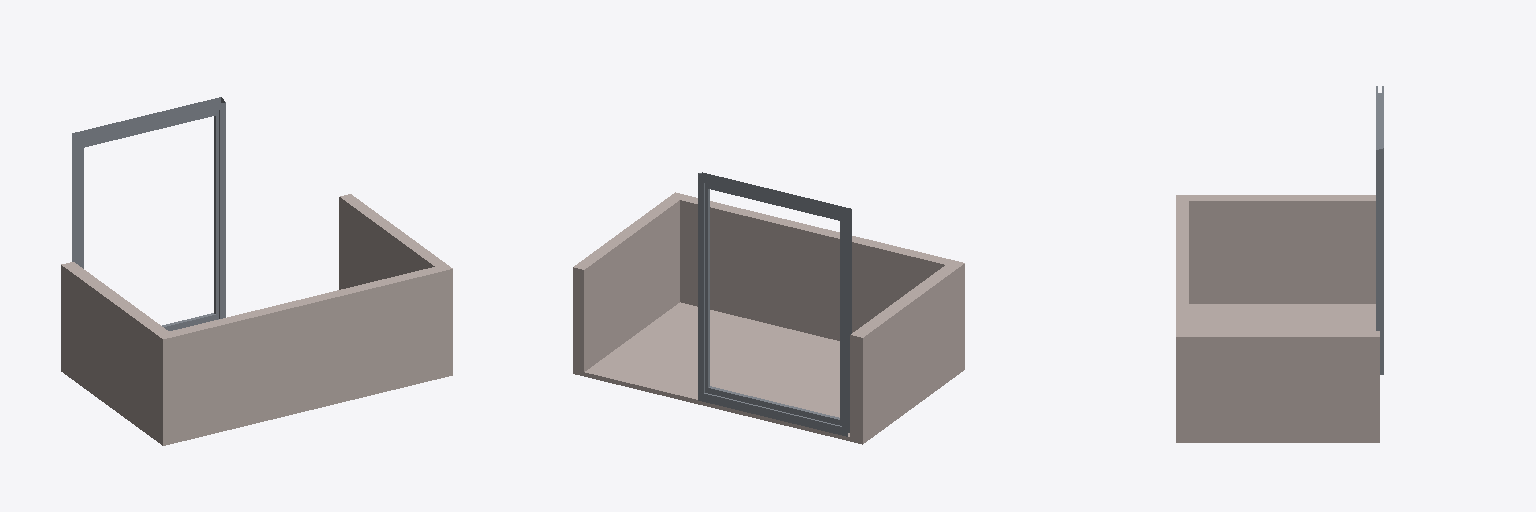
3 renders of one model, left to right at view 1: azimuth 30°, elevation 25°; view 2: azimuth 150°, elevation 25°; view 3: azimuth 270°, elevation 25°, orthographic.
Visible parts, largest first — view 1: Plane.006_Plane.004; view 2: Plane.006_Plane.004; view 3: Plane.006_Plane.004.
Part boxes in pixels (x1,y1,x2,y2): Plane.006_Plane.004: (61, 97, 452, 445); Plane.006_Plane.004: (573, 172, 964, 444); Plane.006_Plane.004: (1176, 86, 1383, 442).
Bounding box in the file's own units: 3.27 × 2.51 × 2.04.
2 materials, 1 textured.